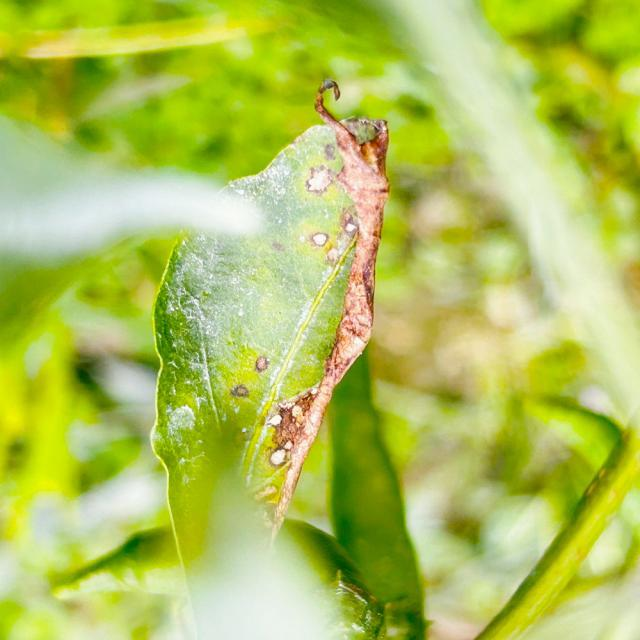Bercak Daun Serkospora: (148, 90, 407, 640)
